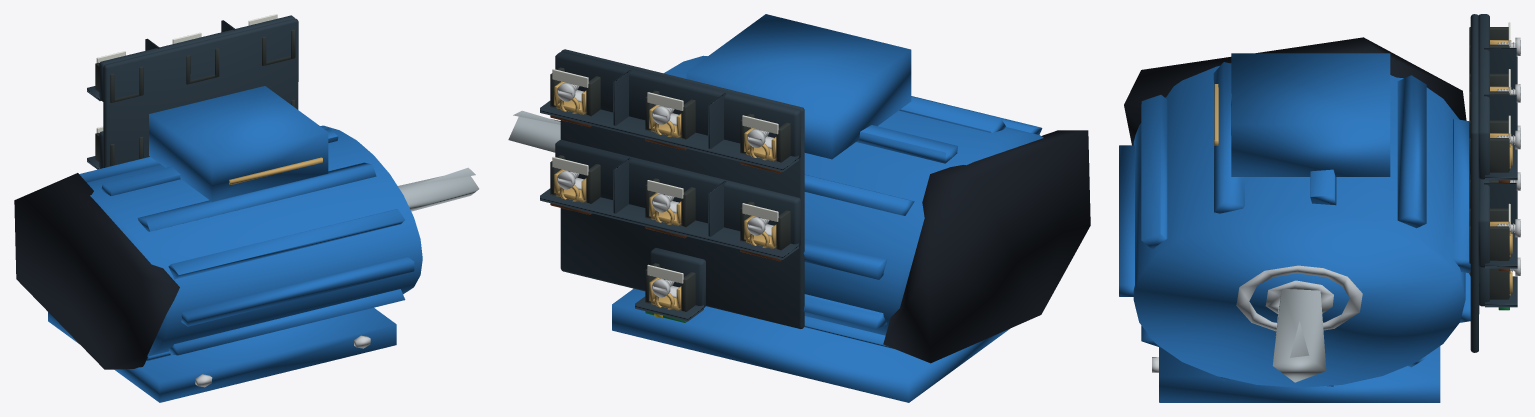
File: motor3_motor.low.glb
The picture shows the model from 3 angles, left to right: view 1: azimuth 30°, elevation 25°; view 2: azimuth 150°, elevation 25°; view 3: azimuth 270°, elevation 25°; orthographic projection. The views are drawn at different scales.
Parts seen in each view (by area): view 1: part:body · Original 7cfa2338, part:body, part:terminals · Original a463fd81, motion:rotor · Original 2a8198d3, Motor terminal link strap, detail:terminal-clamp:U1 · Detail moulded engineering polyme; view 2: part:body · Original 7cfa2338, part:terminals · Original a463fd81, part:body, motion:rotor · Original 2a8198d3, detail:terminal-clamp:V1 · Detail moulded engineering polyme, detail:terminal-clamp:V2 · Detail moulded engineering polyme, detail:terminal-clamp:W1 · Detail moulded engineering polyme, detail:terminal-clamp:U2 · Detail moulded engineering polyme, detail:terminal-clamp:U1 · Detail moulded engineering polyme, detail:terminal-clamp:W2 · Detail moulded engineering polyme, detail:terminal-clamp:PE · Detail moulded engineering polyme, detail:terminal-clamp:W1 · Detail machined brass (+6 smaller); view 3: part:body · Original 7cfa2338, part:terminals · Original a463fd81, part:body, motion:rotor · Original 2a8198d3, detail:motor-bearing · Detail brushed stainless steel, detail:terminal-clamp:W1 · Detail moulded engineering polyme, detail:terminal-clamp:W2 · Detail moulded engineering polyme, detail:terminal-clamp:PE · Detail moulded engineering polyme, detail:terminal-clamp:V1 · Detail moulded engineering polyme, detail:terminal-clamp:U1 · Detail moulded engineering polyme.
Boxes of the visible parts, box(x1,y1,x2,y2) form: part:body · Original 7cfa2338: box(48, 86, 422, 402); part:body: box(14, 173, 179, 369); part:terminals · Original a463fd81: box(87, 15, 298, 169); motion:rotor · Original 2a8198d3: box(398, 167, 479, 211); Motor terminal link strap: box(229, 157, 322, 184); detail:terminal-clamp:U1 · Detail moulded engineering polyme: box(95, 62, 143, 102); part:body · Original 7cfa2338: box(612, 14, 1043, 402); part:terminals · Original a463fd81: box(540, 49, 804, 328); part:body: box(883, 130, 1090, 363); motion:rotor · Original 2a8198d3: box(508, 110, 560, 152); detail:terminal-clamp:V1 · Detail moulded engineering polyme: box(645, 90, 695, 139); detail:terminal-clamp:V2 · Detail moulded engineering polyme: box(645, 178, 695, 227); detail:terminal-clamp:W1 · Detail moulded engineering polyme: box(550, 67, 600, 116); detail:terminal-clamp:U2 · Detail moulded engineering polyme: box(740, 201, 790, 250); detail:terminal-clamp:U1 · Detail moulded engineering polyme: box(740, 113, 790, 162); detail:terminal-clamp:W2 · Detail moulded engineering polyme: box(550, 155, 600, 204); detail:terminal-clamp:PE · Detail moulded engineering polyme: box(645, 263, 695, 312); detail:terminal-clamp:W1 · Detail machined brass: box(554, 81, 586, 114); part:body · Original 7cfa2338: box(1119, 53, 1470, 402); part:terminals · Original a463fd81: box(1470, 14, 1517, 352); part:body: box(1124, 37, 1466, 145); motion:rotor · Original 2a8198d3: box(1272, 289, 1326, 382); detail:motor-bearing · Detail brushed stainless steel: box(1236, 265, 1362, 331); detail:terminal-clamp:W1 · Detail moulded engineering polyme: box(1469, 120, 1510, 175); detail:terminal-clamp:W2 · Detail moulded engineering polyme: box(1469, 208, 1510, 263); detail:terminal-clamp:PE · Detail moulded engineering polyme: box(1469, 268, 1510, 299); detail:terminal-clamp:V1 · Detail moulded engineering polyme: box(1469, 73, 1509, 120); detail:terminal-clamp:U1 · Detail moulded engineering polyme: box(1469, 27, 1509, 73).
Bounding box in the file's own units: 1.58 × 0.877 × 1.11.
